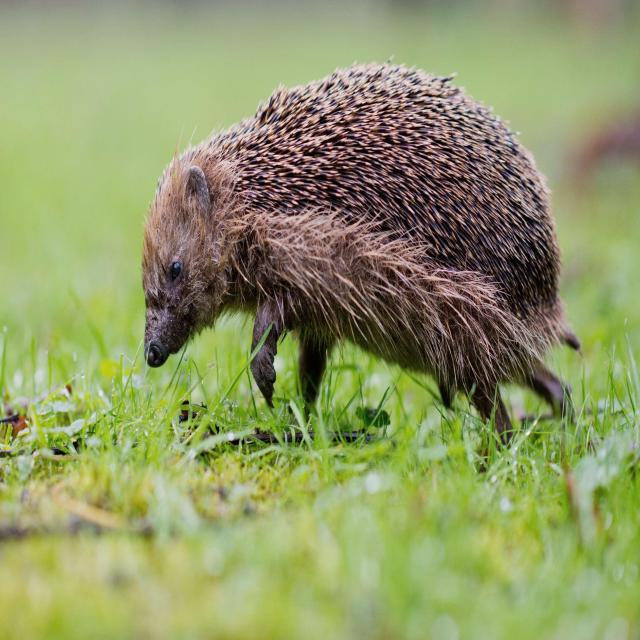hedgehog: (142, 64, 579, 438)
